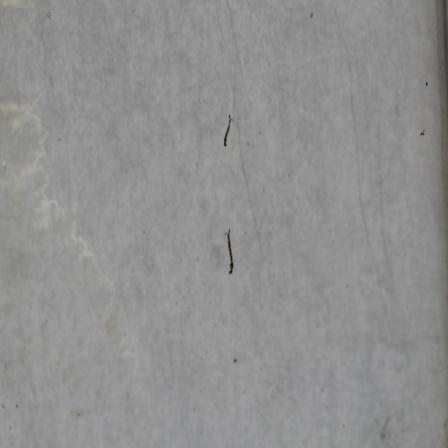Jentik-Nyamuk: (220, 227, 238, 278), (221, 113, 237, 150)
